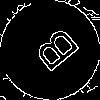B: (25, 25, 82, 80)
